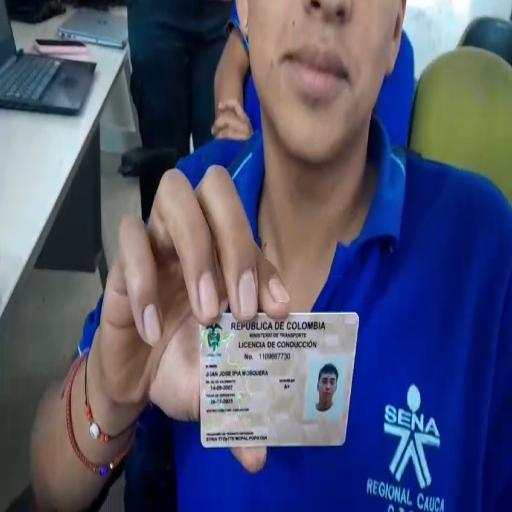colombia: (226, 318, 330, 332)
escudo de colombia: (207, 327, 222, 354)
fechaexpedicion: (207, 396, 239, 406)
fechanacimiento: (209, 379, 237, 392)
foto: (308, 352, 348, 422)
ministerio de transporte: (245, 329, 308, 340)
nombre: (204, 366, 270, 382)
numerolic: (258, 352, 297, 360)
tarjeta conduccion: (200, 313, 358, 447)
titulo licencia: (238, 341, 321, 354)
